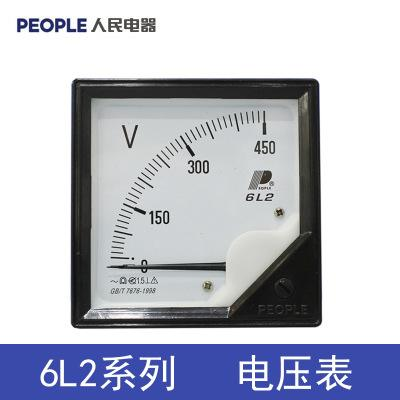pointer: (89, 95, 300, 309)
